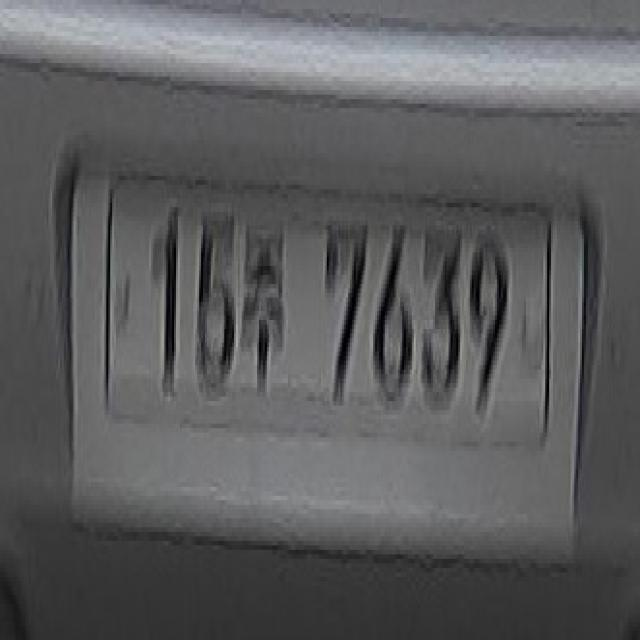1: (143, 194, 190, 410)
3: (418, 212, 462, 419)
5: (187, 194, 238, 410)
6: (369, 212, 420, 410)
7: (317, 203, 367, 419)
9: (464, 216, 512, 424)
ju: (238, 212, 290, 406)
license_plate: (96, 158, 564, 487)
